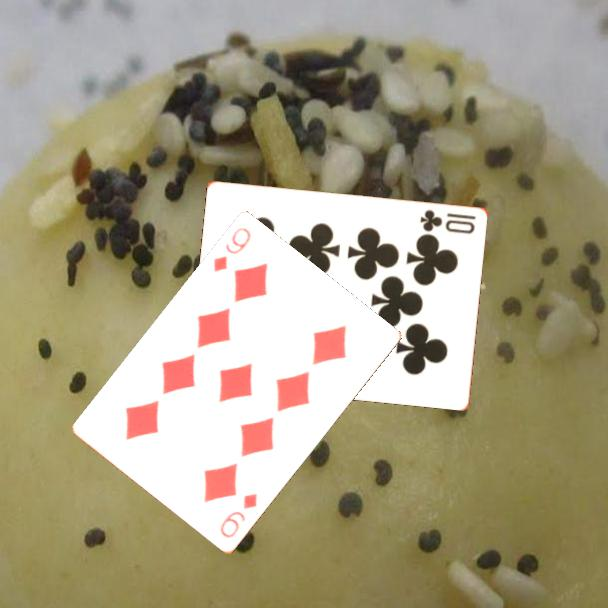c10: (417, 206, 479, 236)
d09: (216, 490, 260, 542), (210, 224, 254, 275)
